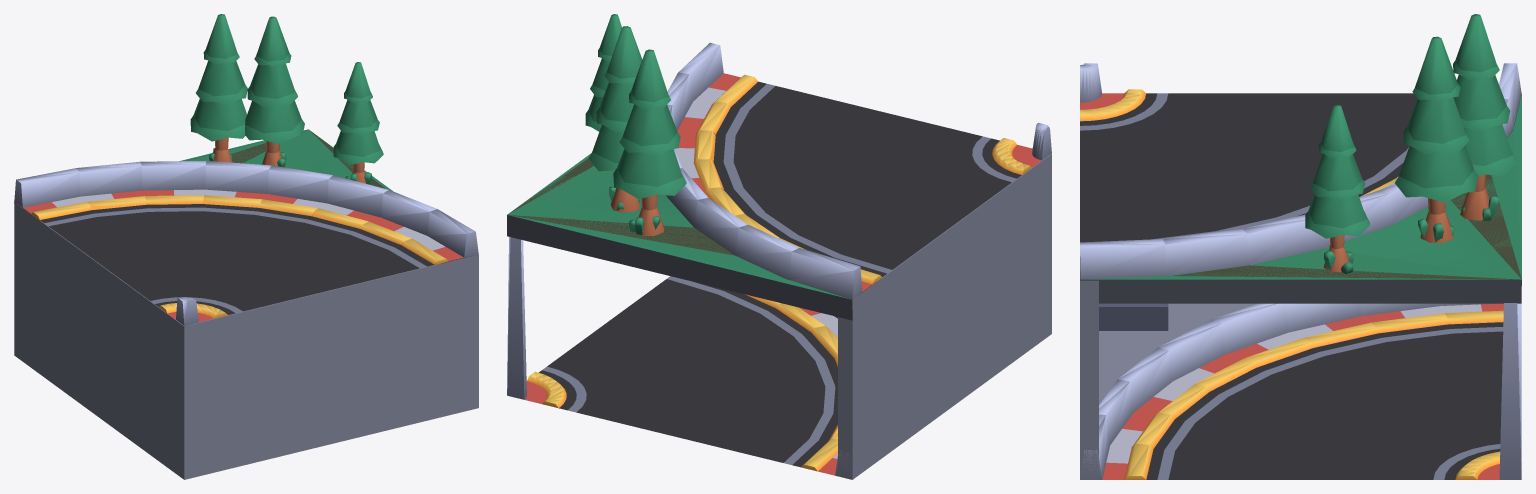
Rendered from elev-cross-corners.glb.
3 renders of one model, left to right at view 1: azimuth 30°, elevation 25°; view 2: azimuth 150°, elevation 25°; view 3: azimuth 270°, elevation 25°, orthographic. The views are drawn at different scales.
Visible parts, largest first — view 1: track-corner.004; view 2: track-corner.004; view 3: track-corner.004.
Boxes of the visible parts, x1,y1,x2,y2 form: track-corner.004: [14, 14, 478, 479]; track-corner.004: [507, 14, 1051, 479]; track-corner.004: [1080, 14, 1521, 479].
Size of the model in its own units: 10.06 by 9.94 by 10.01.
Materials: 3 (3 with a texture image).
